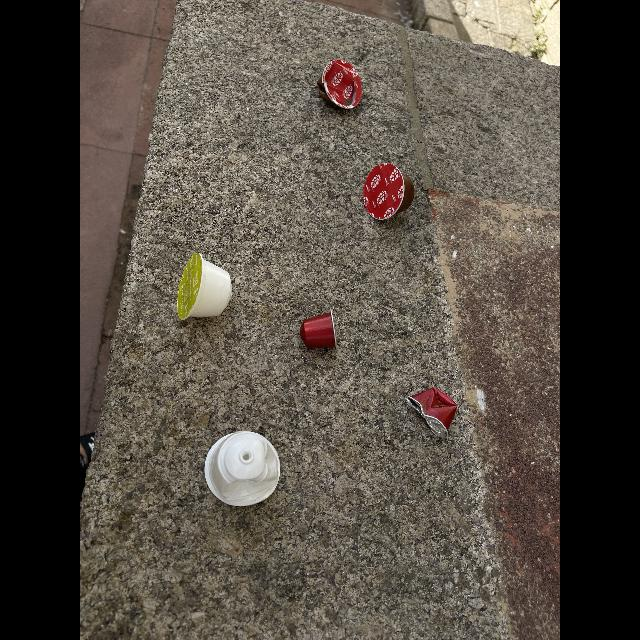damaged_capsule: (200, 426, 288, 512), (398, 382, 466, 442), (307, 57, 371, 115)
intact_capsule: (354, 158, 424, 226), (170, 250, 236, 320), (292, 306, 346, 354)
